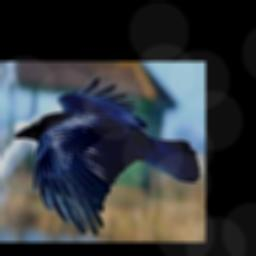Crow: (14, 76, 200, 235)
